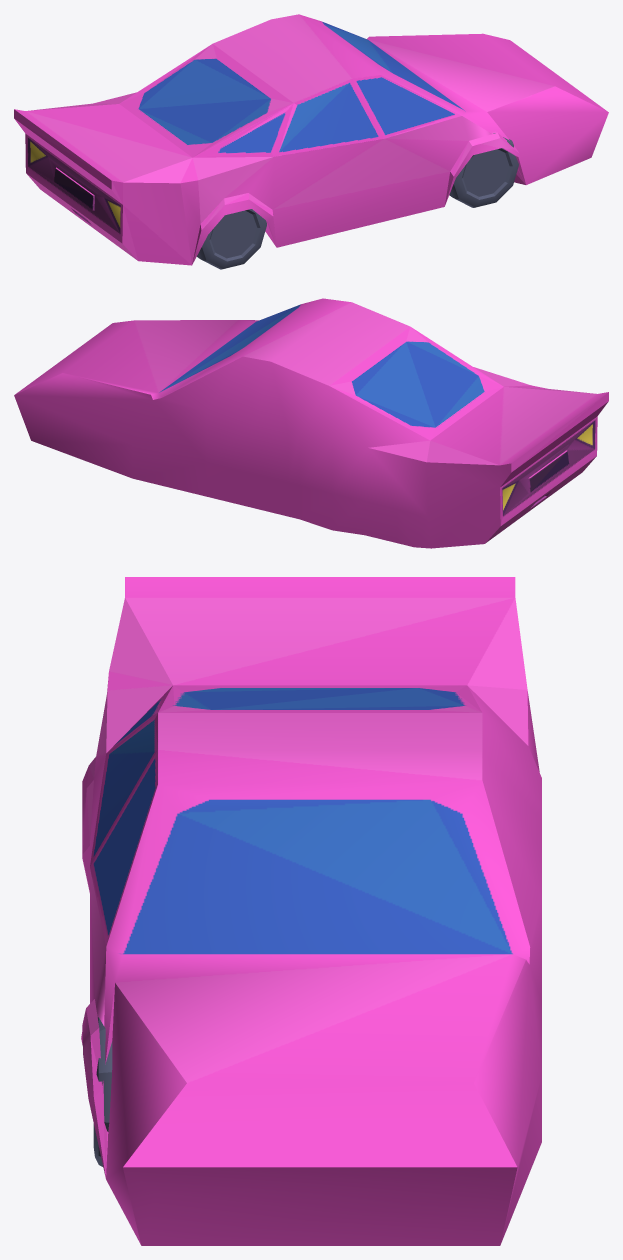
Rendered from 粉色车.fbx.
3 renders of one model, top to bottom at view 1: azimuth 30°, elevation 25°; view 2: azimuth 150°, elevation 25°; view 3: azimuth 270°, elevation 25°, orthographic. The views are drawn at different scales.
Visible parts, largest first — view 1: Box004, Cylinder002, Cylinder001; view 2: Box004; view 3: Box004, Cylinder002.
Boxes of the visible parts, left/top/right/bottom form: Box004: left=14, top=14, right=608, bottom=265; Cylinder002: left=449, top=133, right=518, bottom=207; Cylinder001: left=197, top=209, right=266, bottom=269; Box004: left=14, top=298, right=608, bottom=548; Box004: left=81, top=577, right=541, bottom=1245; Cylinder002: left=93, top=1017, right=112, bottom=1166.
Size of the model in its own units: 137 by 38.62 by 54.93.
